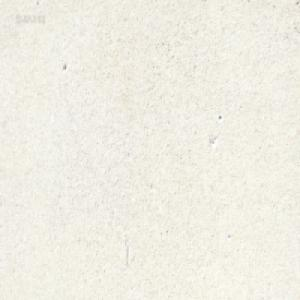Wrench: (129, 0, 135, 4)
